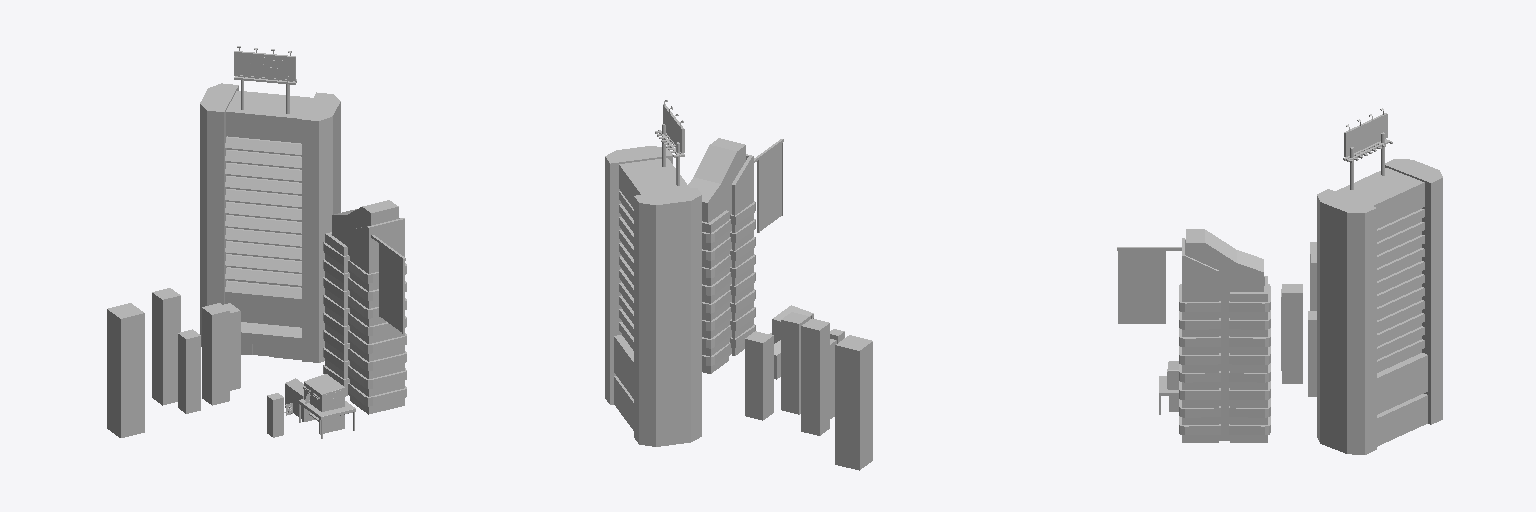
Rendered from buildingenobj.obj.
3 views of the same model, side by side, from view 1: azimuth 30°, elevation 25°; view 2: azimuth 150°, elevation 25°; view 3: azimuth 270°, elevation 25° (orthographic).
Visible parts, largest first — view 1: pCube55 BackGroundBuilding_1, BackGroundBuilding_2 pCube57 Lateral, BackGroundBuilding_2 Lateral pCube56, pCube33 BackGroundBuildings, BackGroundBuilding_1 pCube54, BackGroundBuilding_2 group2 pCube70, BackGroundBuildings pCube31, Base BackGroundBuilding_2, BackGroundBuildings pCube29, BackGroundBuilding_2 Base1, BackGroundBuildings pCube32, BackGroundBuilding_1 Cartell pCube72 (+18 smaller); view 2: BackGroundBuilding_2 Lateral pCube56, pCube33 BackGroundBuildings, BackGroundBuilding_1 pCube54, pCube55 BackGroundBuilding_1, BackGroundBuilding_2 pCube57 Lateral, BackGroundBuildings pCube31, BackGroundBuilding_1 pCube53, BackGroundBuildings pCube30, BackGroundBuildings pCube29, BackGroundBuilding_2 group2 pCube70, BackGroundBuilding_1 Cartell pCube72, Base BackGroundBuilding_2 (+2 smaller); view 3: BackGroundBuilding_2 pCube57 Lateral, pCube55 BackGroundBuilding_1, BackGroundBuilding_1 pCube54, BackGroundBuilding_2 Lateral pCube56, BackGroundBuilding_1 pCube53, BackGroundBuilding_1 Cartell pCube72, BackGroundBuilding_2 group2 pCube70, Base BackGroundBuilding_2, BackGroundBuildings pCube29, BackGroundBuilding_2 Base1, BackGroundBuilding_2 Glass, VallaPublicitaria pCube5 (+1 smaller).
Boxes of the visible parts, x1=… form: pCube55 BackGroundBuilding_1: x1=348, y1=218, x2=406, y2=414; BackGroundBuilding_2 pCube57 Lateral: x1=302, y1=92, x2=340, y2=362; BackGroundBuilding_2 Lateral pCube56: x1=200, y1=83, x2=238, y2=346; pCube33 BackGroundBuildings: x1=107, y1=303, x2=144, y2=437; BackGroundBuilding_1 pCube54: x1=323, y1=232, x2=349, y2=396; BackGroundBuilding_2 group2 pCube70: x1=226, y1=91, x2=312, y2=142; BackGroundBuildings pCube31: x1=152, y1=288, x2=180, y2=405; Base BackGroundBuilding_2: x1=225, y1=280, x2=301, y2=327; BackGroundBuildings pCube29: x1=202, y1=303, x2=229, y2=405; BackGroundBuilding_2 Base1: x1=241, y1=322, x2=301, y2=359; BackGroundBuildings pCube32: x1=178, y1=329, x2=200, y2=413; BackGroundBuilding_1 Cartell pCube72: x1=380, y1=244, x2=401, y2=331; BackGroundBuilding_2 Lateral pCube56: x1=634, y1=188, x2=701, y2=446; pCube33 BackGroundBuildings: x1=835, y1=335, x2=872, y2=470; BackGroundBuilding_1 pCube54: x1=702, y1=210, x2=730, y2=373; pCube55 BackGroundBuilding_1: x1=730, y1=154, x2=755, y2=355; BackGroundBuilding_2 pCube57 Lateral: x1=605, y1=146, x2=672, y2=404; BackGroundBuildings pCube31: x1=801, y1=318, x2=829, y2=435; BackGroundBuilding_1 pCube53: x1=688, y1=138, x2=745, y2=355; BackGroundBuildings pCube30: x1=745, y1=331, x2=773, y2=420; BackGroundBuildings pCube29: x1=781, y1=312, x2=809, y2=414; BackGroundBuilding_2 group2 pCube70: x1=619, y1=158, x2=689, y2=208; BackGroundBuilding_1 Cartell pCube72: x1=760, y1=143, x2=781, y2=230; Base BackGroundBuilding_2: x1=614, y1=335, x2=633, y2=398; BackGroundBuilding_2 pCube57 Lateral: x1=1317, y1=189, x2=1376, y2=454; pCube55 BackGroundBuilding_1: x1=1179, y1=238, x2=1220, y2=442; BackGroundBuilding_1 pCube54: x1=1229, y1=276, x2=1270, y2=442; BackGroundBuilding_2 Lateral pCube56: x1=1385, y1=159, x2=1442, y2=424; BackGroundBuilding_1 pCube53: x1=1186, y1=229, x2=1263, y2=440; BackGroundBuilding_1 Cartell pCube72: x1=1119, y1=251, x2=1163, y2=323; BackGroundBuilding_2 group2 pCube70: x1=1335, y1=168, x2=1424, y2=227; Base BackGroundBuilding_2: x1=1377, y1=353, x2=1427, y2=414; BackGroundBuildings pCube29: x1=1282, y1=284, x2=1302, y2=383; BackGroundBuilding_2 Base1: x1=1377, y1=394, x2=1427, y2=446; BackGroundBuilding_2 Glass: x1=1377, y1=208, x2=1421, y2=372; VallaPublicitaria pCube5: x1=1344, y1=113, x2=1387, y2=156.
Bounding box in the file's own units: 422 × 550 × 496.